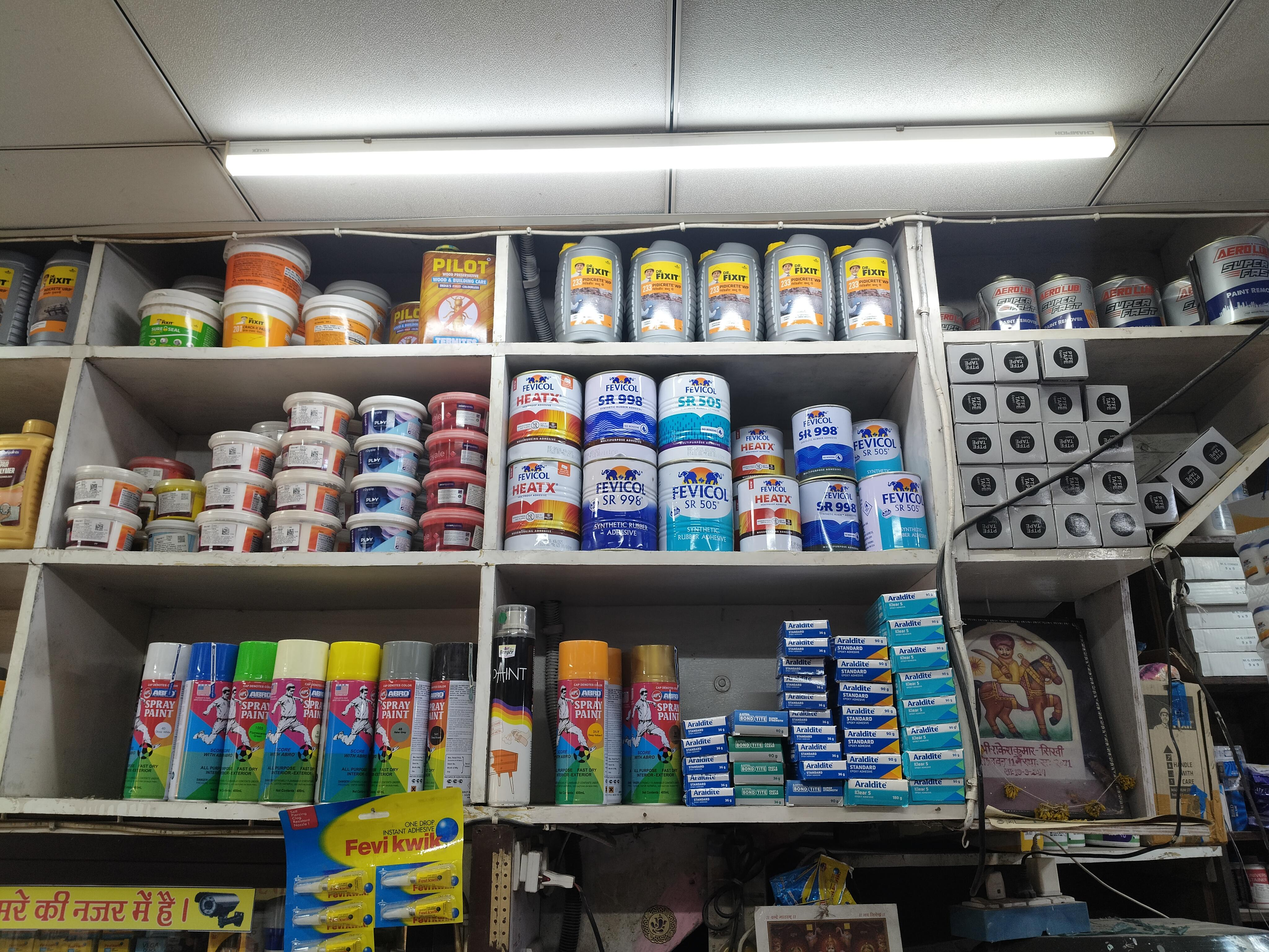BONDTITE_FAST - CLEAR: (730, 737, 783, 762), (733, 764, 783, 786), (734, 787, 786, 806)
BONDTITE_SUPER STRENGTH: (786, 781, 845, 808), (734, 709, 791, 736)
Fevicol_HEATX: (507, 370, 583, 468), (503, 459, 582, 550), (738, 476, 803, 552), (733, 425, 787, 500)
